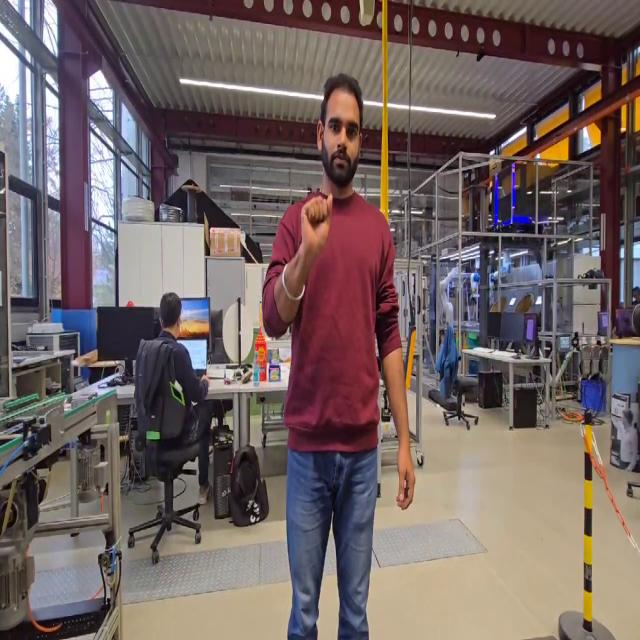closed_fist: (298, 190, 336, 268)
